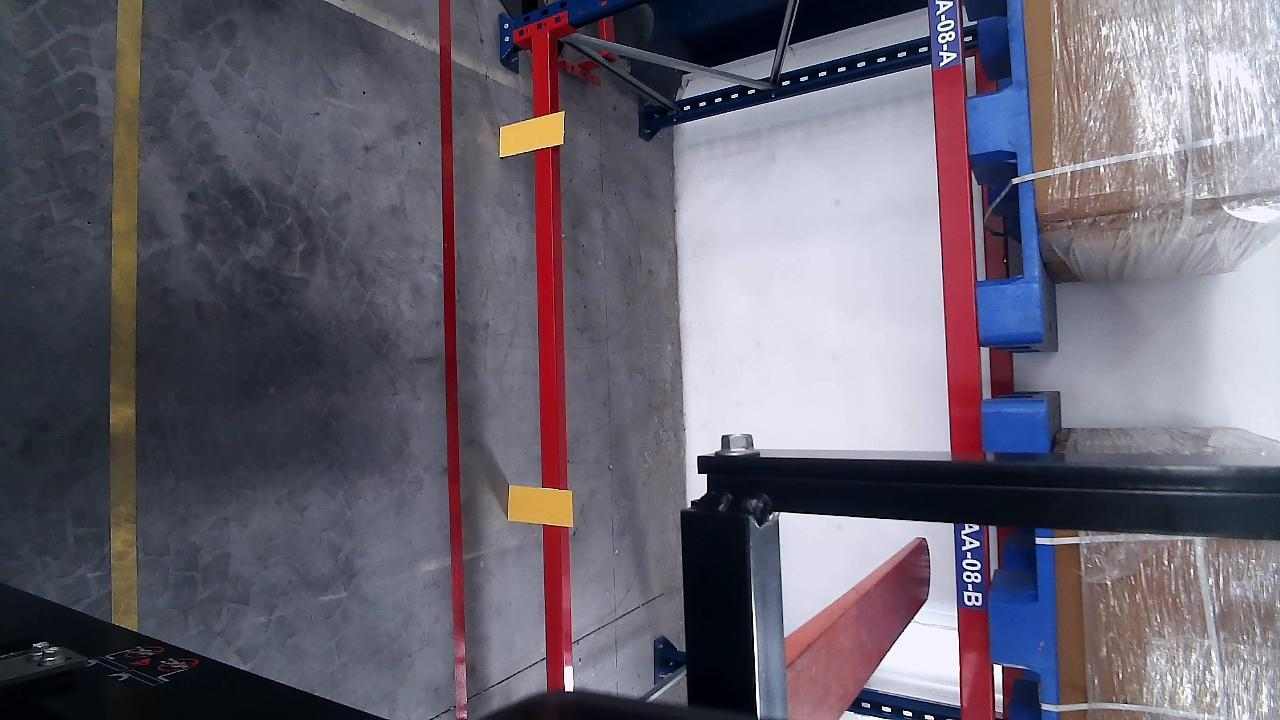h_rack: (927, 2, 992, 719), (528, 27, 565, 691)
orange_strip: (497, 113, 566, 156), (508, 482, 572, 527)
red_line: (437, 1, 470, 720)
small_pallet: (981, 408, 1062, 720)
yellow_line: (111, 1, 147, 628)
